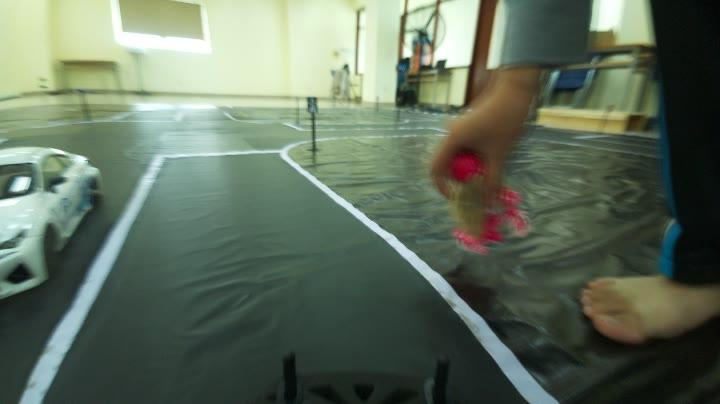car: (0, 118, 95, 312)
